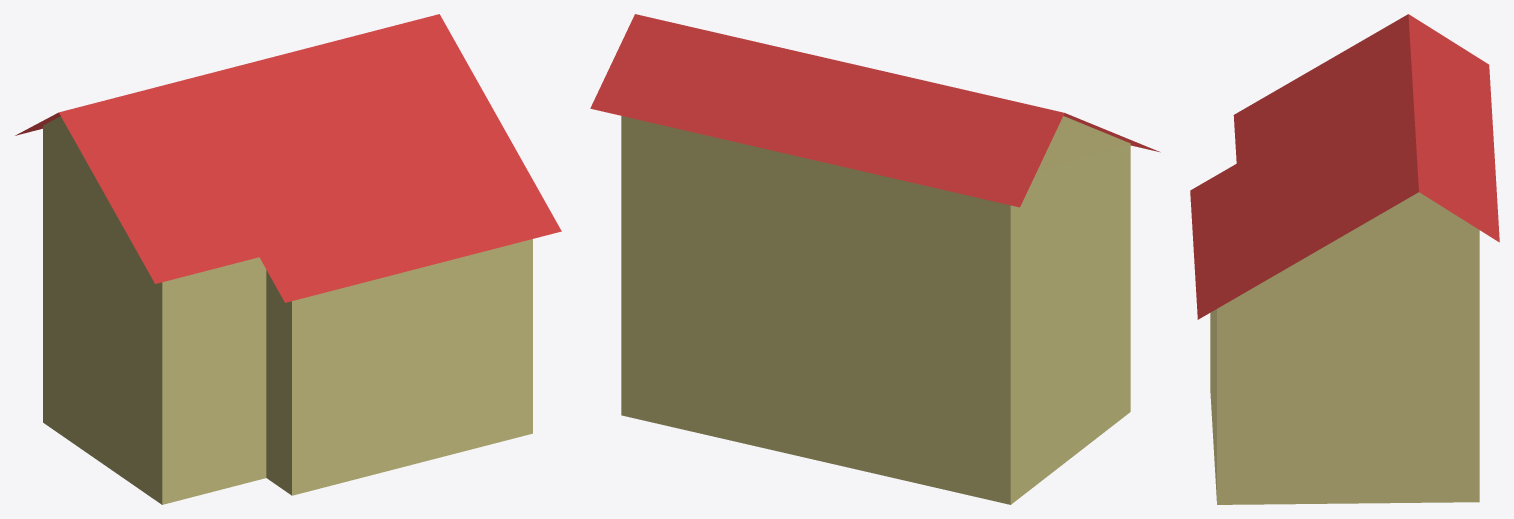
3 views of the same model, side by side, from view 1: azimuth 30°, elevation 25°; view 2: azimuth 150°, elevation 25°; view 3: azimuth 270°, elevation 25° (orthographic). The views are drawn at different scales.
Size of the model in its own units: 10.85 by 7.83 by 8.9.
